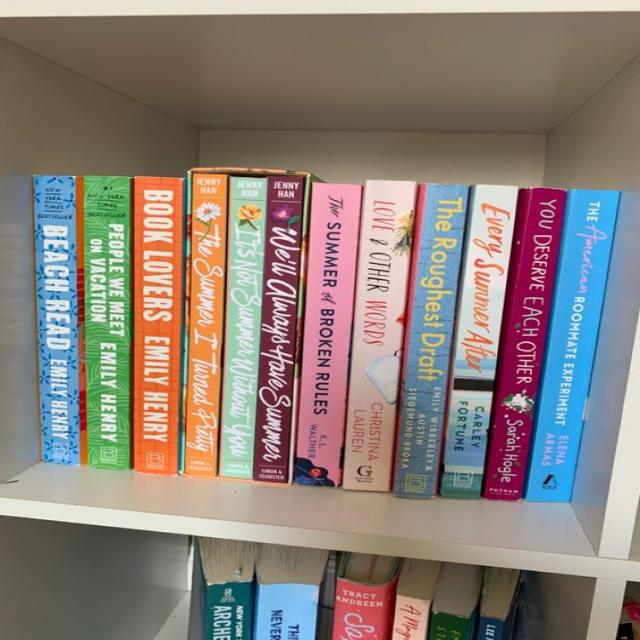book: (523, 190, 620, 505), (482, 188, 565, 500), (438, 185, 519, 500), (391, 181, 470, 499), (342, 180, 417, 493), (294, 181, 362, 487), (254, 174, 308, 482), (133, 175, 183, 473), (218, 177, 267, 477), (83, 176, 130, 468), (183, 173, 227, 477), (34, 176, 79, 465)
